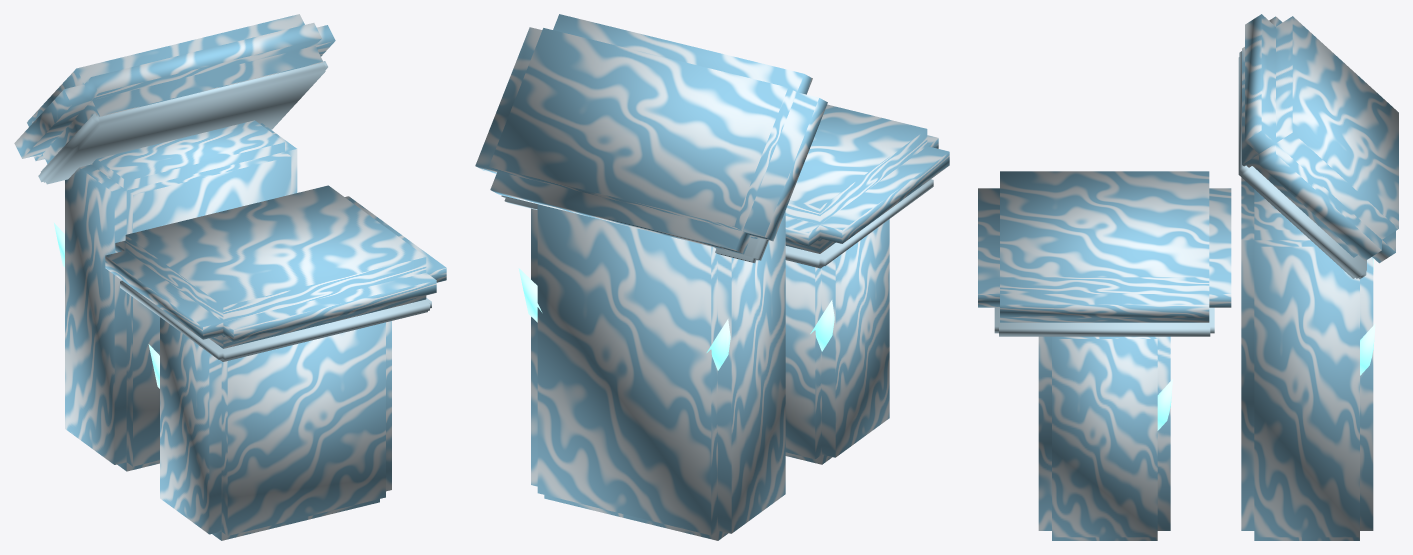
The model's file is CrystalBench.glb.
3 views of the same model, side by side, from view 1: azimuth 30°, elevation 25°; view 2: azimuth 150°, elevation 25°; view 3: azimuth 270°, elevation 25° (orthographic). The views are drawn at different scales.
Visible parts, largest first — view 1: CrystalBench; view 2: CrystalBench, CrystalBench_Glow; view 3: CrystalBench, CrystalBench_Glow.
Part boxes in pixels (x1,y1,x2,y2): CrystalBench: [14, 14, 446, 540]; CrystalBench: [475, 14, 949, 540]; CrystalBench_Glow: [518, 268, 834, 370]; CrystalBench: [978, 14, 1398, 540]; CrystalBench_Glow: [1157, 258, 1375, 430].
Bounding box in the file's own units: 2.14 × 3.11 × 2.77.
2 materials, 1 textured.
